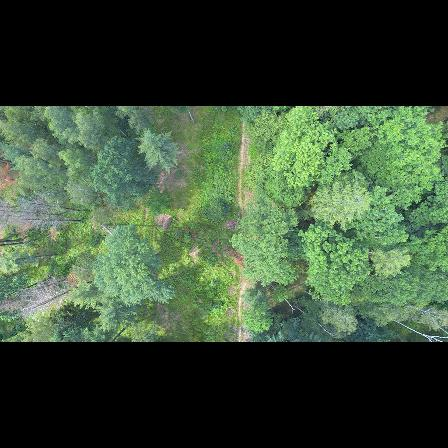Dead: (8, 213, 83, 229), (28, 287, 78, 309), (20, 199, 85, 215)
